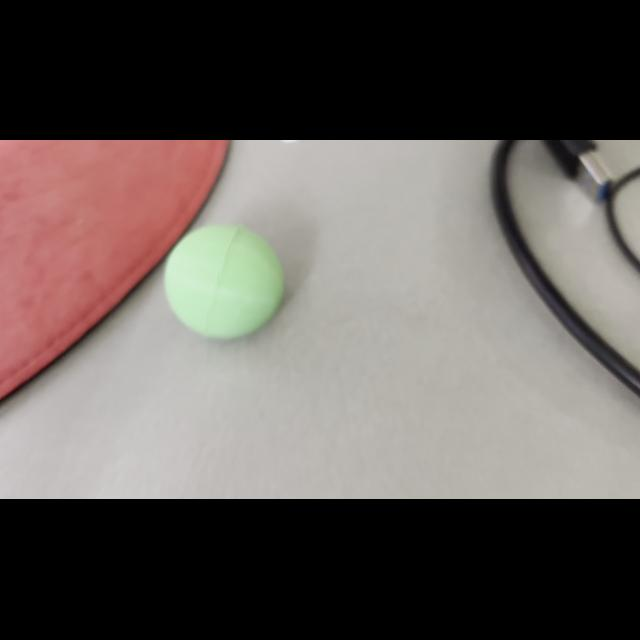objects: (160, 215, 290, 342)
